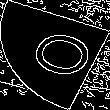O_E: (14, 26, 96, 84)
